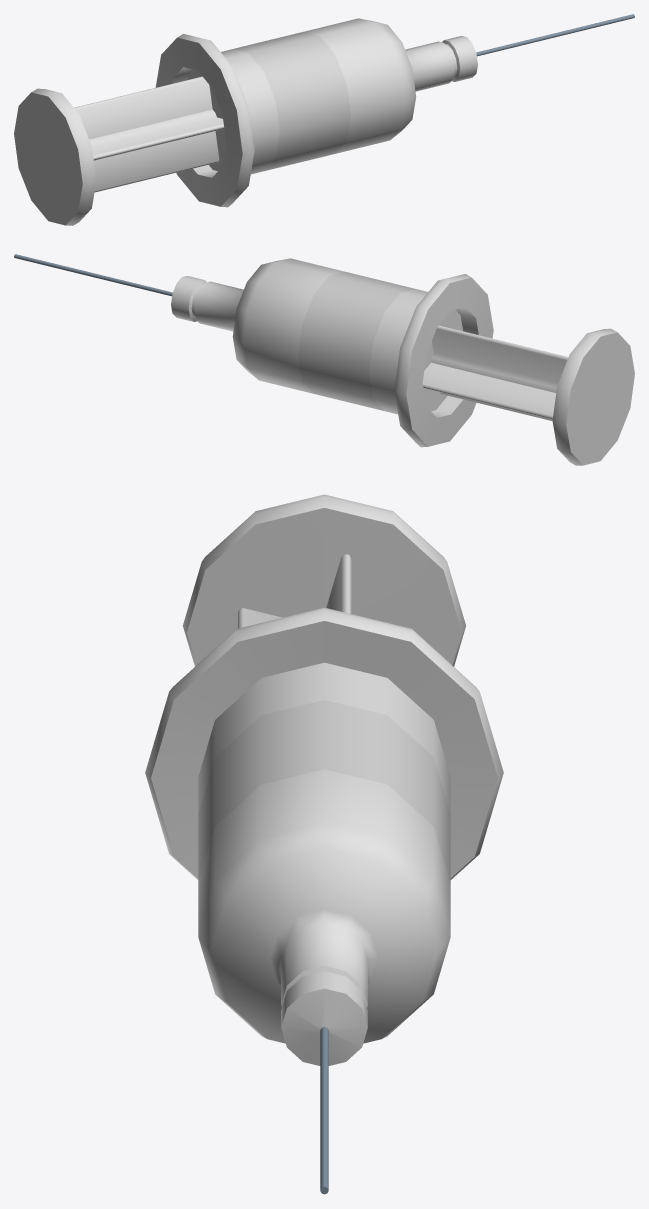
Rendered from Bullet.FBX.
3 renders of one model, top to bottom at view 1: azimuth 30°, elevation 25°; view 2: azimuth 150°, elevation 25°; view 3: azimuth 270°, elevation 25°, orthographic. The views are drawn at different scales.
Parts seen in each view (by area): view 1: Cylinder01; view 2: Cylinder01; view 3: Cylinder01.
Boxes of the visible parts, box(x1,y1,x2,y2) form: Cylinder01: box(14, 14, 634, 225); Cylinder01: box(14, 254, 634, 465); Cylinder01: box(145, 494, 503, 1194).
Size of the model in its own units: 107 by 28.42 by 28.42.
